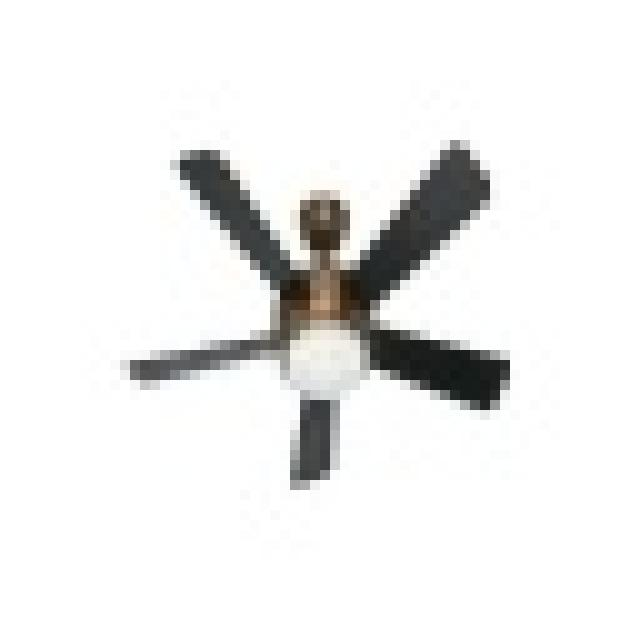Bulb: (100, 118, 547, 500)
